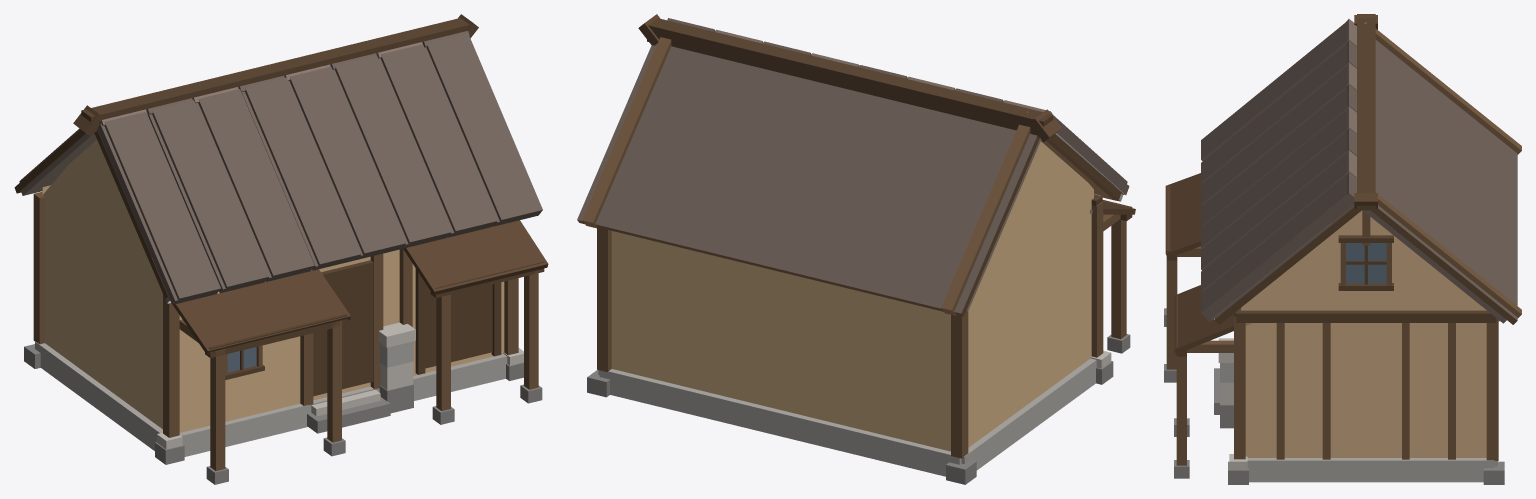
File: medieval9.fbx
3 views of the same model, side by side, from view 1: azimuth 30°, elevation 25°; view 2: azimuth 150°, elevation 25°; view 3: azimuth 270°, elevation 25° (orthographic). The views are drawn at different scales.
Parts seen in each view (by area): view 1: Plinth_Right; view 2: Plinth_Right; view 3: Plinth_Right.
Boxes of the visible parts, x1=… form: Plinth_Right: x1=14, y1=14, x2=548, y2=484; Plinth_Right: x1=577, y1=14, x2=1135, y2=484; Plinth_Right: x1=1164, y1=14, x2=1521, y2=484.
Bounding box in the file's own units: 674 × 497 × 543.
